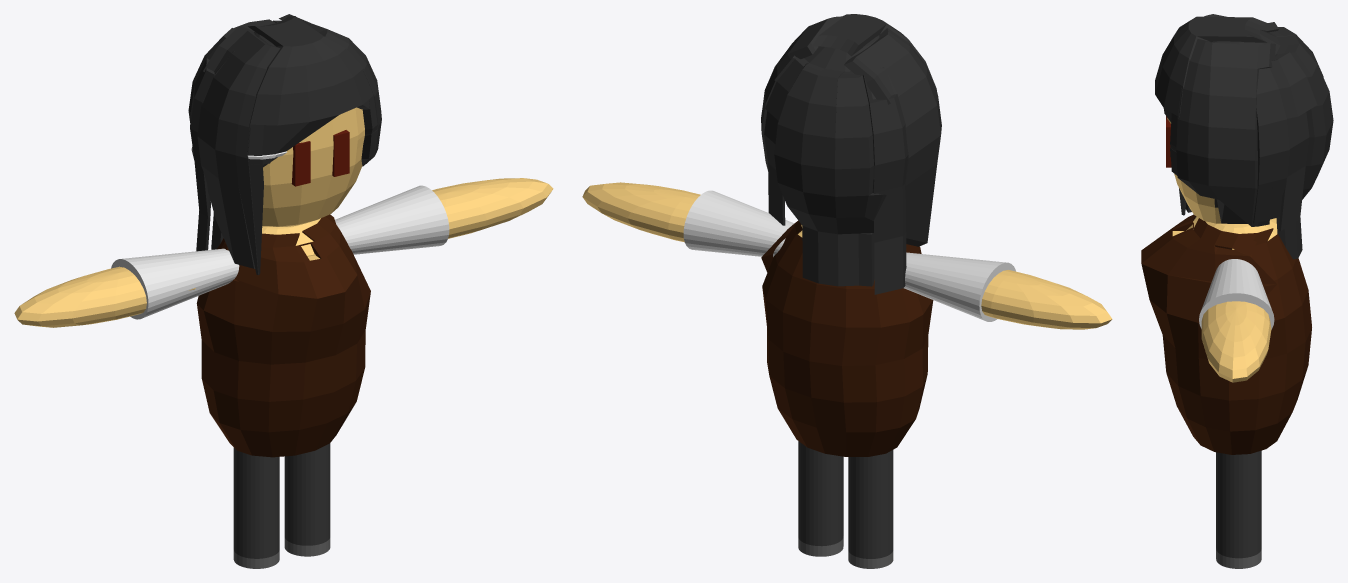
The model's file is Lane.glb.
3 renders of one model, left to right at view 1: azimuth 30°, elevation 25°; view 2: azimuth 150°, elevation 25°; view 3: azimuth 270°, elevation 25°, orthographic.
Parts seen in each view (by area): view 1: head.020, body.020, rightArm.020, leftArm.020, rightLeg.020, leftLeg.020; view 2: head.020, body.020, rightArm.020, leftArm.020, rightLeg.020, leftLeg.020; view 3: head.020, body.020, leftArm.020, leftLeg.020.
Boxes of the visible parts, x1,y1,x2,y2 form: head.020: [188, 14, 381, 275]; body.020: [196, 214, 370, 457]; rightArm.020: [14, 248, 239, 327]; leftArm.020: [335, 178, 553, 254]; rightLeg.020: [233, 447, 279, 568]; leftLeg.020: [284, 443, 330, 556]; head.020: [761, 14, 941, 294]; body.020: [761, 220, 933, 456]; rightArm.020: [904, 252, 1112, 329]; leftArm.020: [582, 182, 793, 256]; rightLeg.020: [848, 450, 893, 568]; leftLeg.020: [798, 441, 843, 556]; head.020: [1155, 14, 1333, 259]; body.020: [1141, 214, 1311, 454]; leftArm.020: [1199, 259, 1274, 382]; leftLeg.020: [1216, 450, 1261, 568].
Size of the model in its own units: 1.68 by 1.58 by 0.527.
